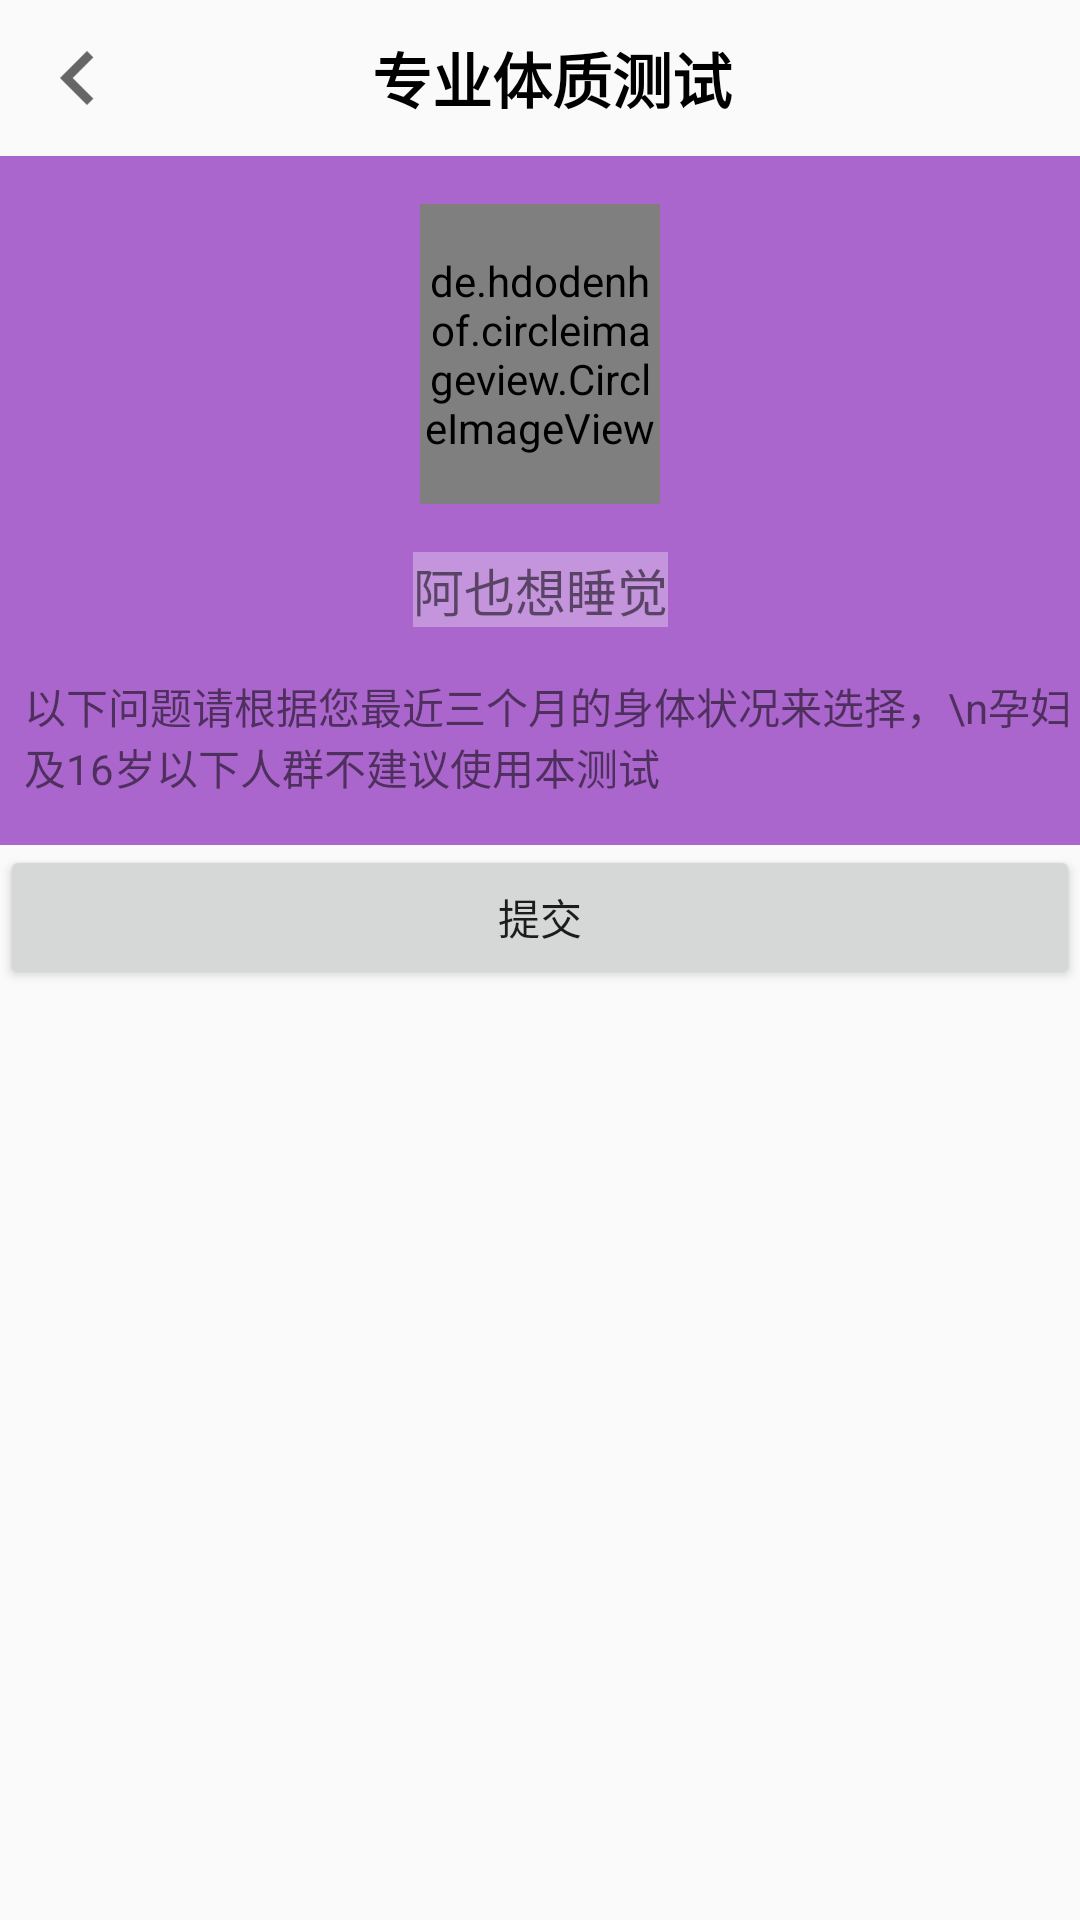

Icons on this 1080 × 1920 Android screen, each with its box as detection(x1, y1, x2, y2):
chevron left: detection(60, 51, 93, 105)
